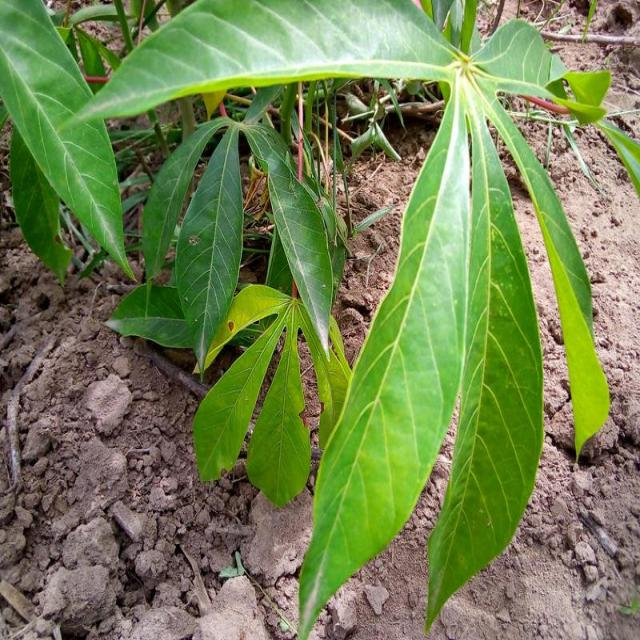cassava leaf: (4, 0, 626, 637), (296, 70, 470, 638), (423, 72, 545, 636), (0, 0, 135, 284)
